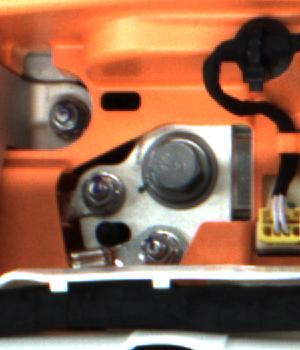nut_b: (136, 130, 214, 206)
screw_s: (37, 95, 88, 139), (75, 169, 120, 212), (136, 233, 187, 269)
